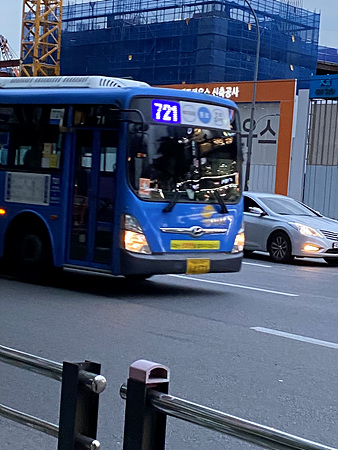entrance: (67, 101, 127, 275)
